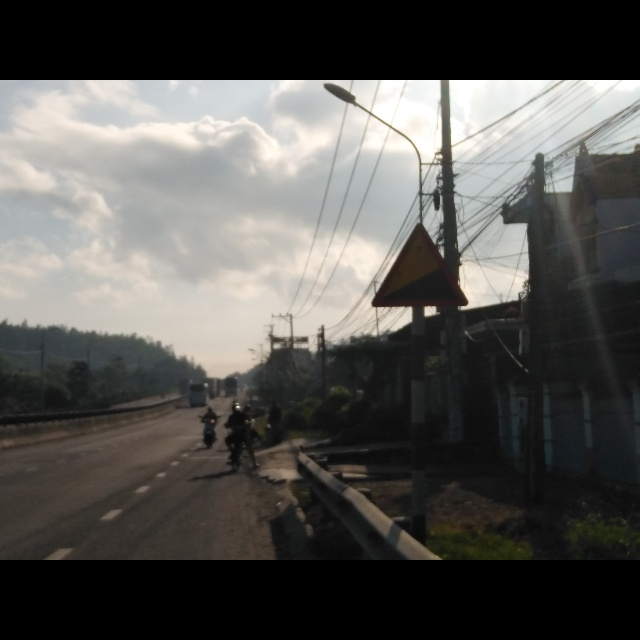Dốc lên nguy hiểm: (370, 220, 469, 310)
